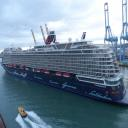cruises: (1, 31, 128, 107)
